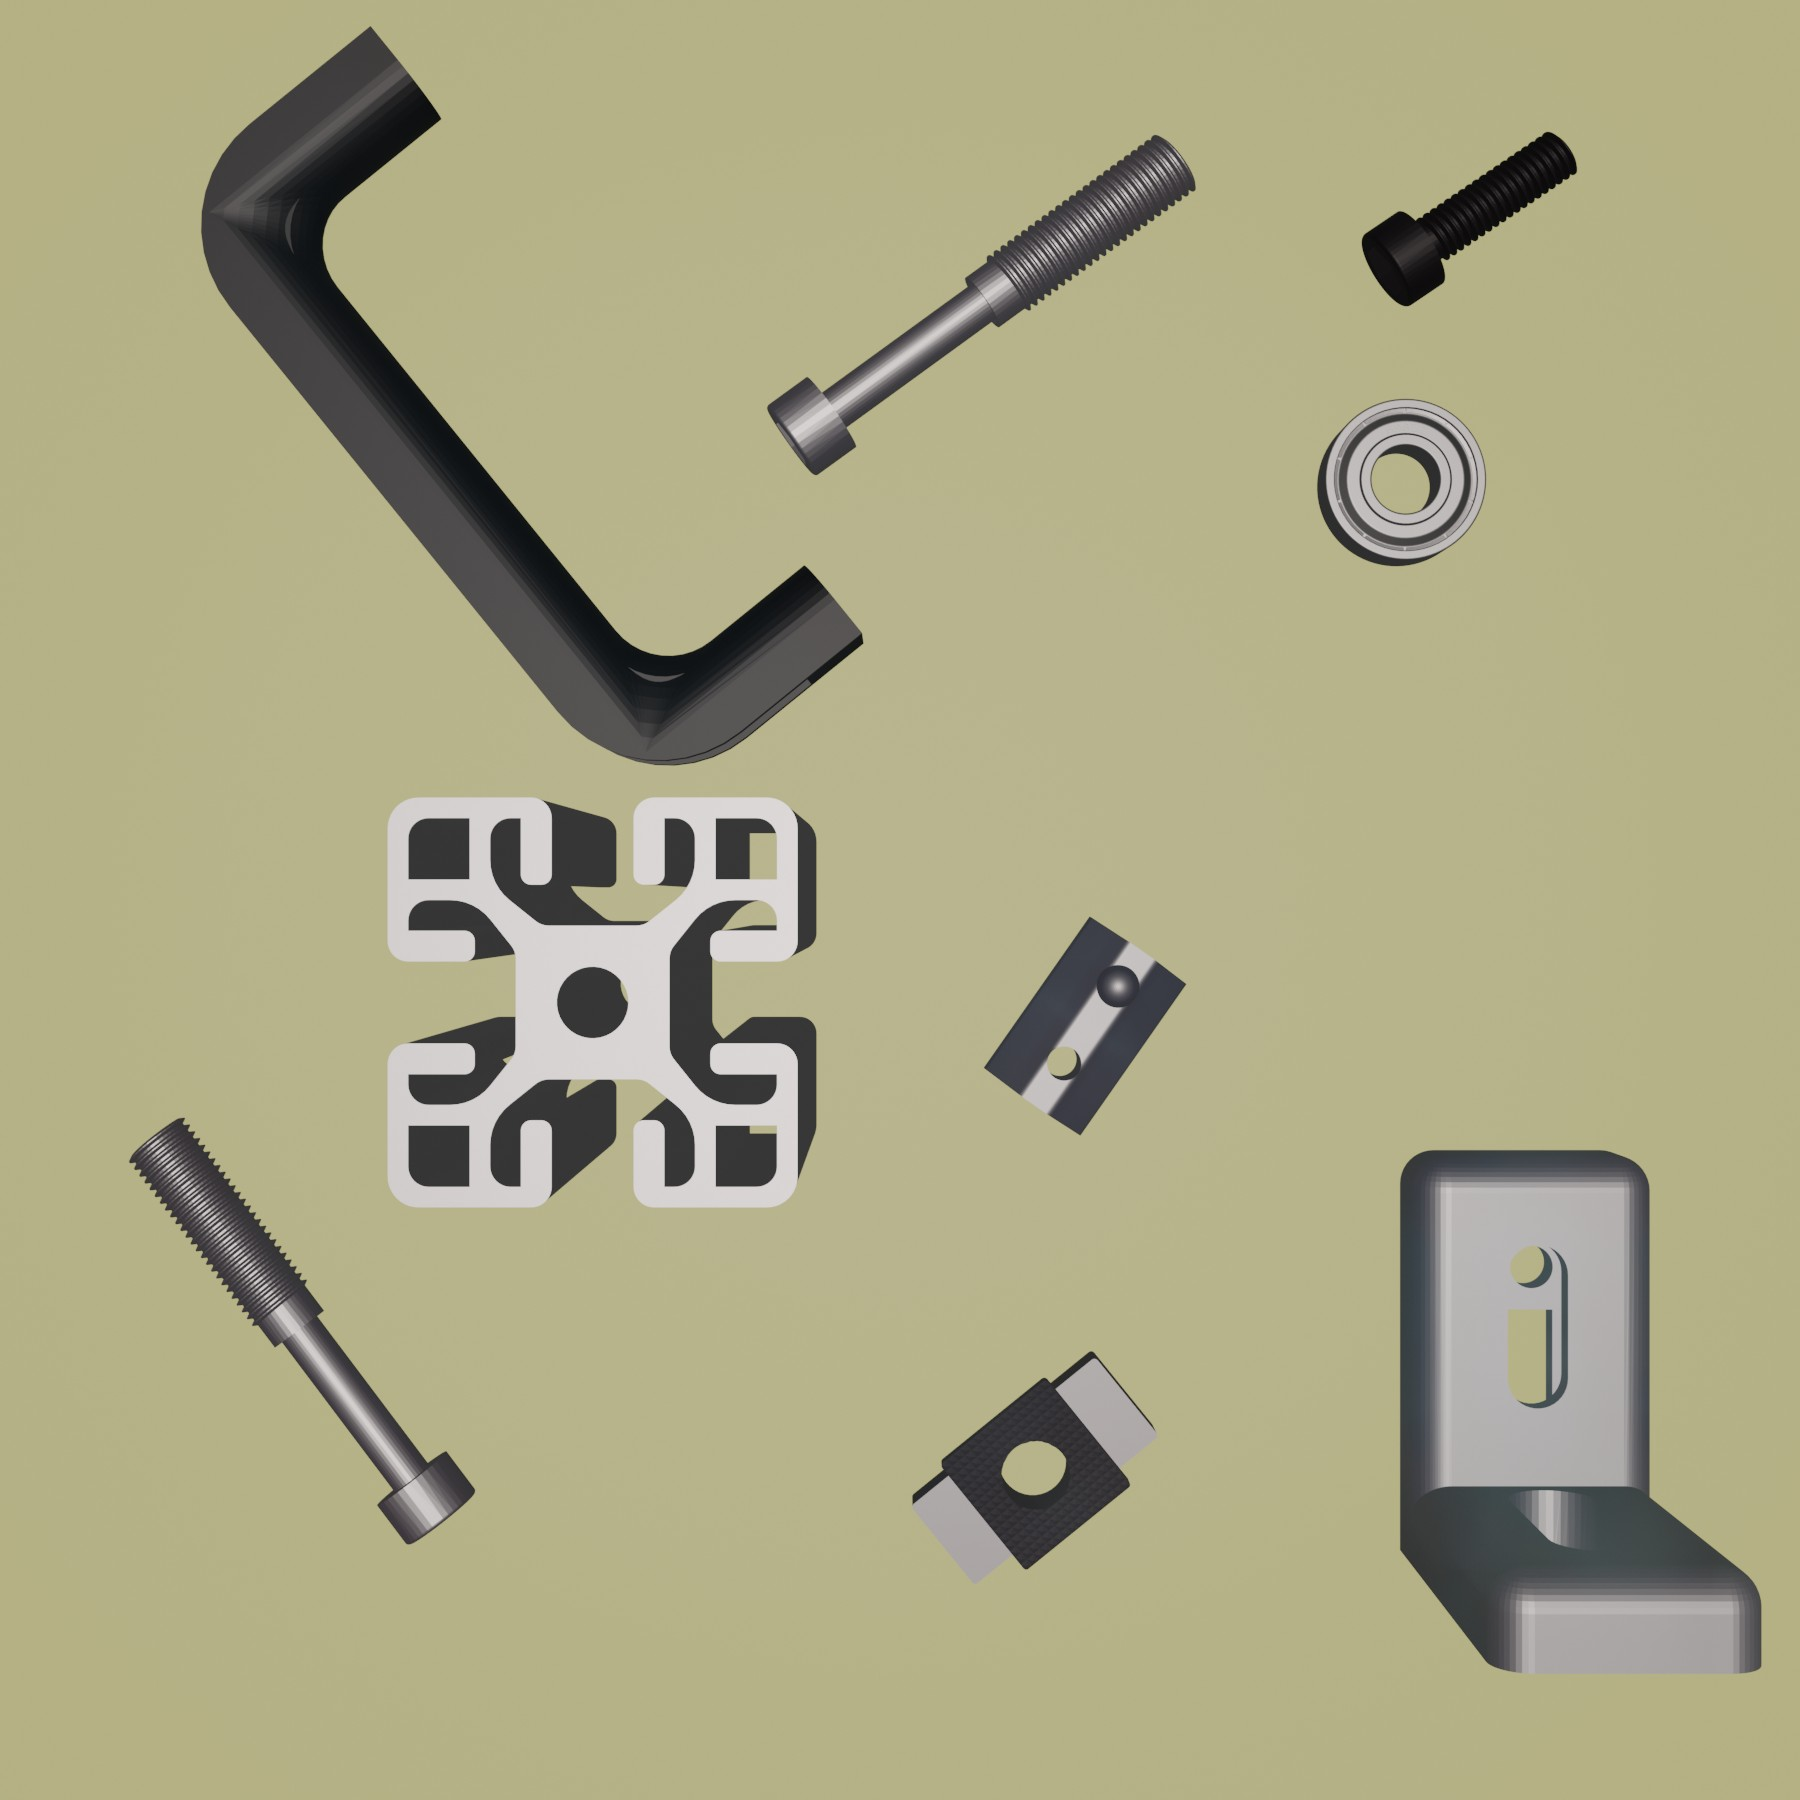Aluminium Extension: (382, 791, 819, 1215)
Ball Bearing: (1314, 397, 1490, 570)
Multiwinkel: (1396, 1146, 1767, 1676)
Pull Handle: (198, 20, 865, 770)
Shoulder Socket Head Cap Screw: (129, 1114, 478, 1549), (765, 130, 1197, 476)
Socket Head Cap Screw: (1358, 129, 1581, 308)
T Nut Square: (908, 1342, 1162, 1587)
T Spring Nut: (982, 912, 1190, 1139)
